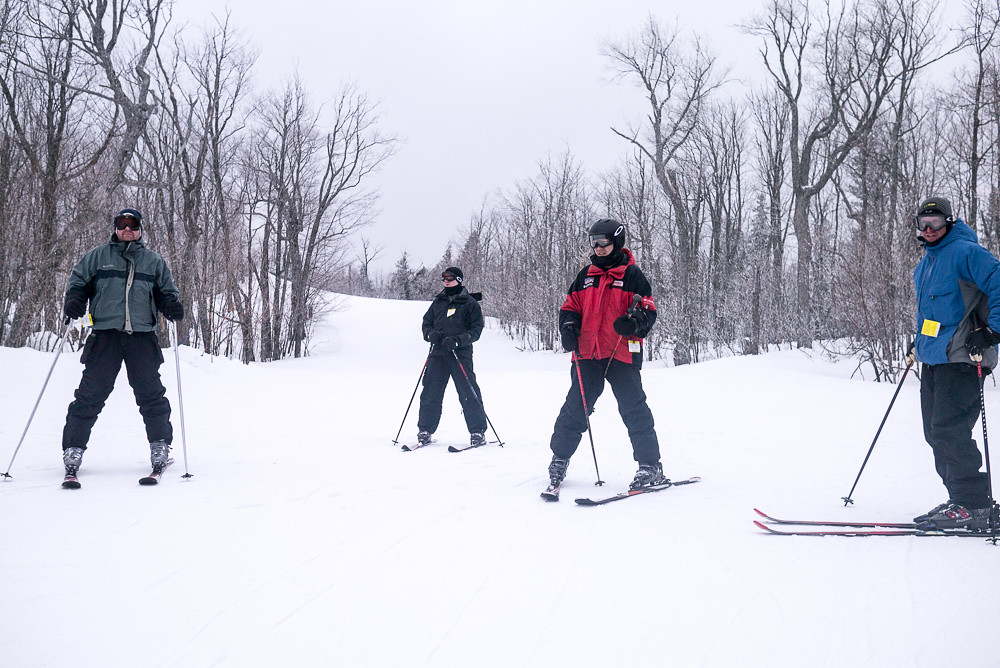skier: (753, 195, 999, 541), (4, 208, 193, 493), (533, 217, 701, 515), (385, 264, 508, 458)
